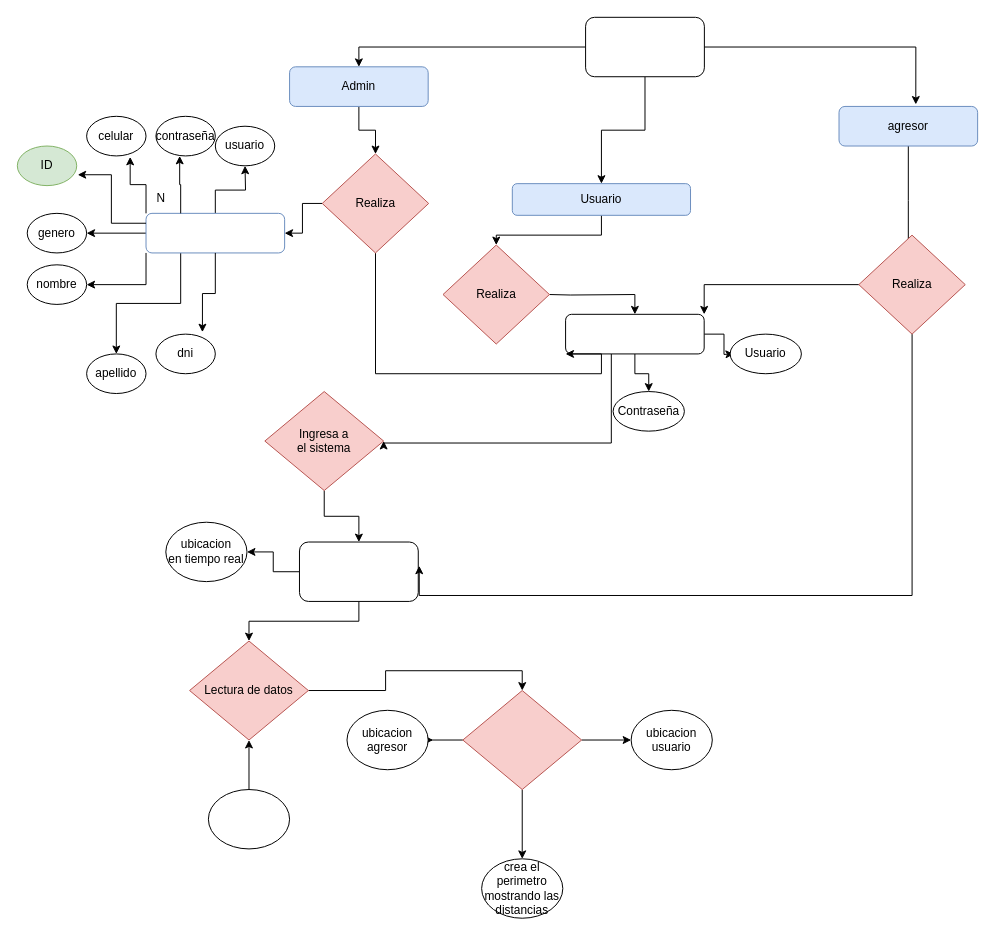
Some shapes in this 995 by 936 pixel diagram are drawn without their labels. Each missing label, with the box of its shape:
Creacion de perimetro: (462, 690, 582, 790)
Logueo: (565, 313, 704, 354)
Registro: (145, 212, 285, 253)
subida de datos: (298, 541, 418, 601)
Toma la ubicacion del agresor: (207, 789, 290, 849)
Tracker: (585, 16, 704, 77)
